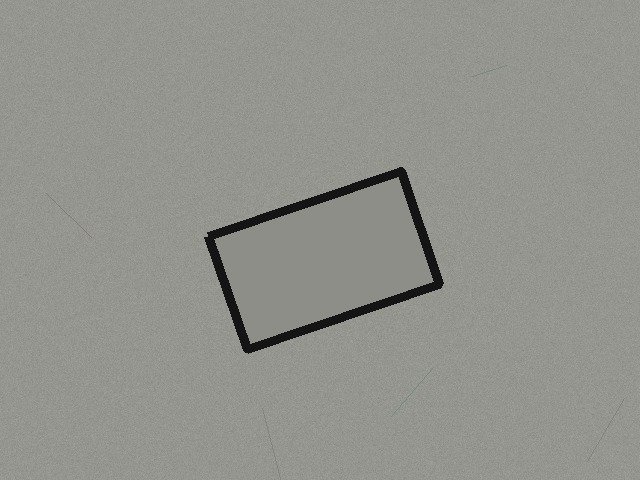parking_area: (208, 171, 439, 349)
